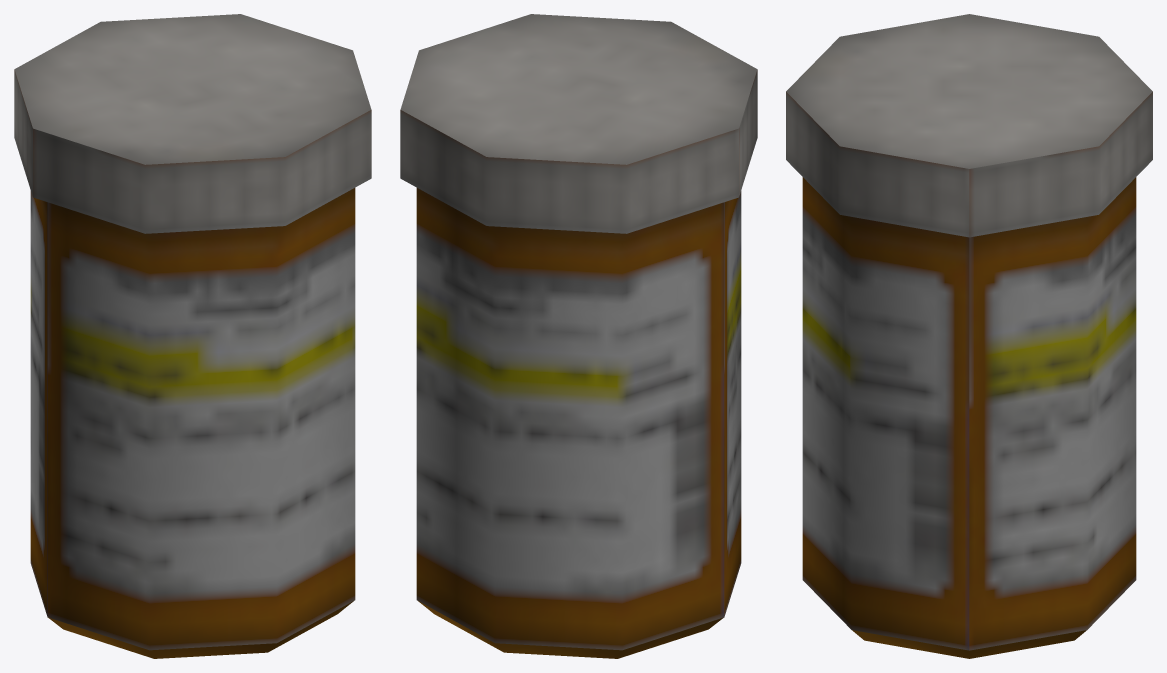
Rendered from pills_bottle_1_1.fbx.
3 renders of one model, left to right at view 1: azimuth 30°, elevation 25°; view 2: azimuth 150°, elevation 25°; view 3: azimuth 270°, elevation 25°, orthographic.
Parts seen in each view (by area): view 1: pills_bottle_1_1; view 2: pills_bottle_1_1; view 3: pills_bottle_1_1.
Part boxes in pixels (x1,y1,x2,y2): pills_bottle_1_1: [14, 14, 371, 658]; pills_bottle_1_1: [400, 14, 757, 658]; pills_bottle_1_1: [786, 14, 1152, 658].
Size of the model in its own units: 0.0748 by 0.1136 by 0.0748.
1 material, 1 textured.
